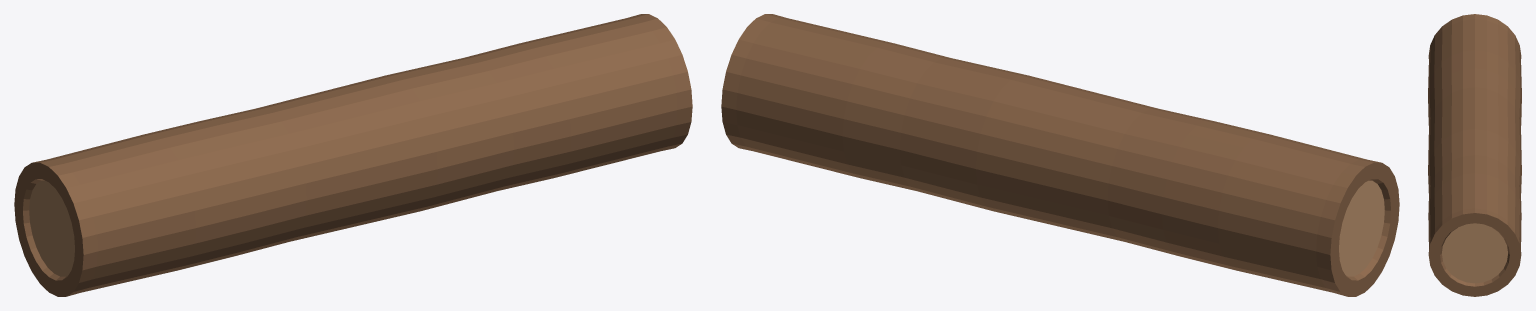
Rendered from env-log.fbx.
The picture shows the model from 3 angles, left to right: view 1: azimuth 30°, elevation 25°; view 2: azimuth 150°, elevation 25°; view 3: azimuth 270°, elevation 25°; orthographic projection. The views are drawn at different scales.
Parts seen in each view (by area): view 1: Cylinder.225; view 2: Cylinder.225; view 3: Cylinder.225.
Boxes of the visible parts, x1,y1,x2,y2 form: Cylinder.225: (14,14,692,296); Cylinder.225: (721,14,1399,296); Cylinder.225: (1428,14,1521,296).
Bounding box in the file's own units: 248 × 49.53 × 49.53.
